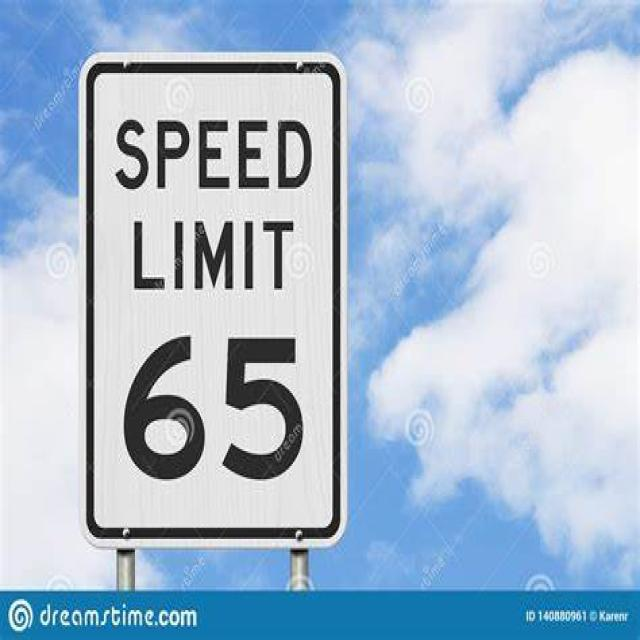speedLimit65: (83, 64, 342, 543)
